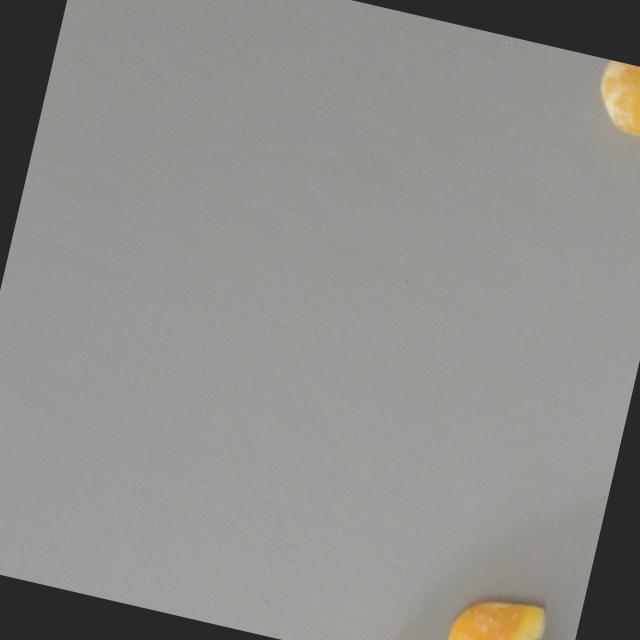pelicula: (448, 586, 569, 640), (588, 58, 640, 137)
